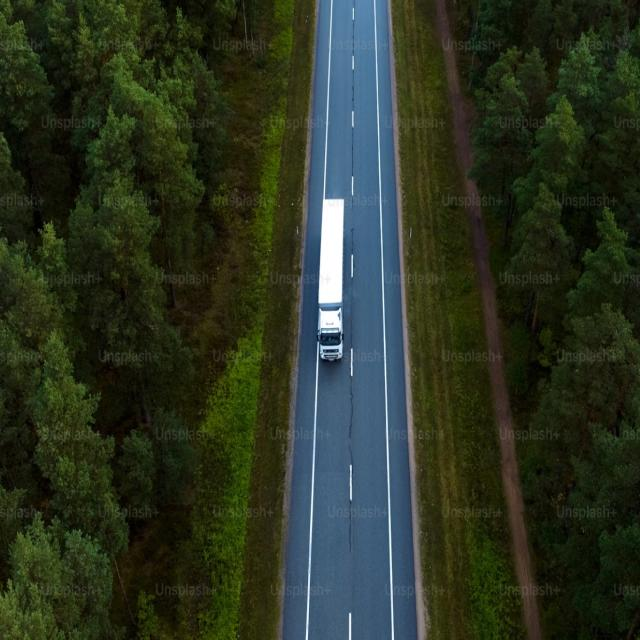truck: (316, 199, 348, 363)
